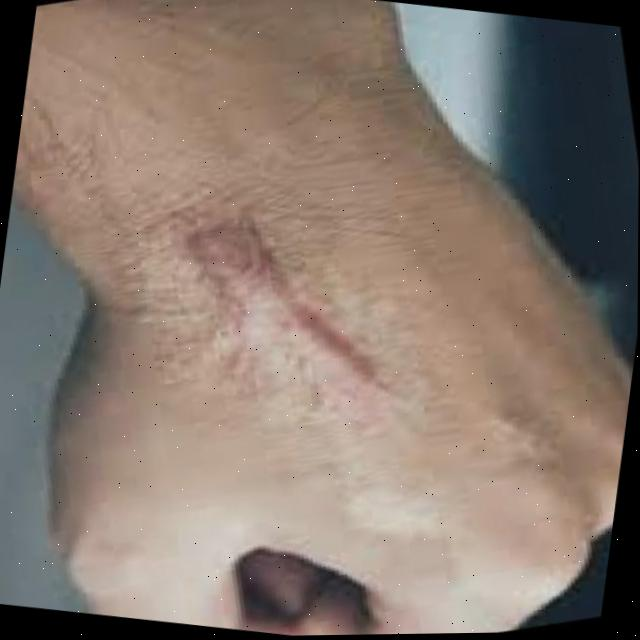Eczema: (160, 183, 356, 407)
